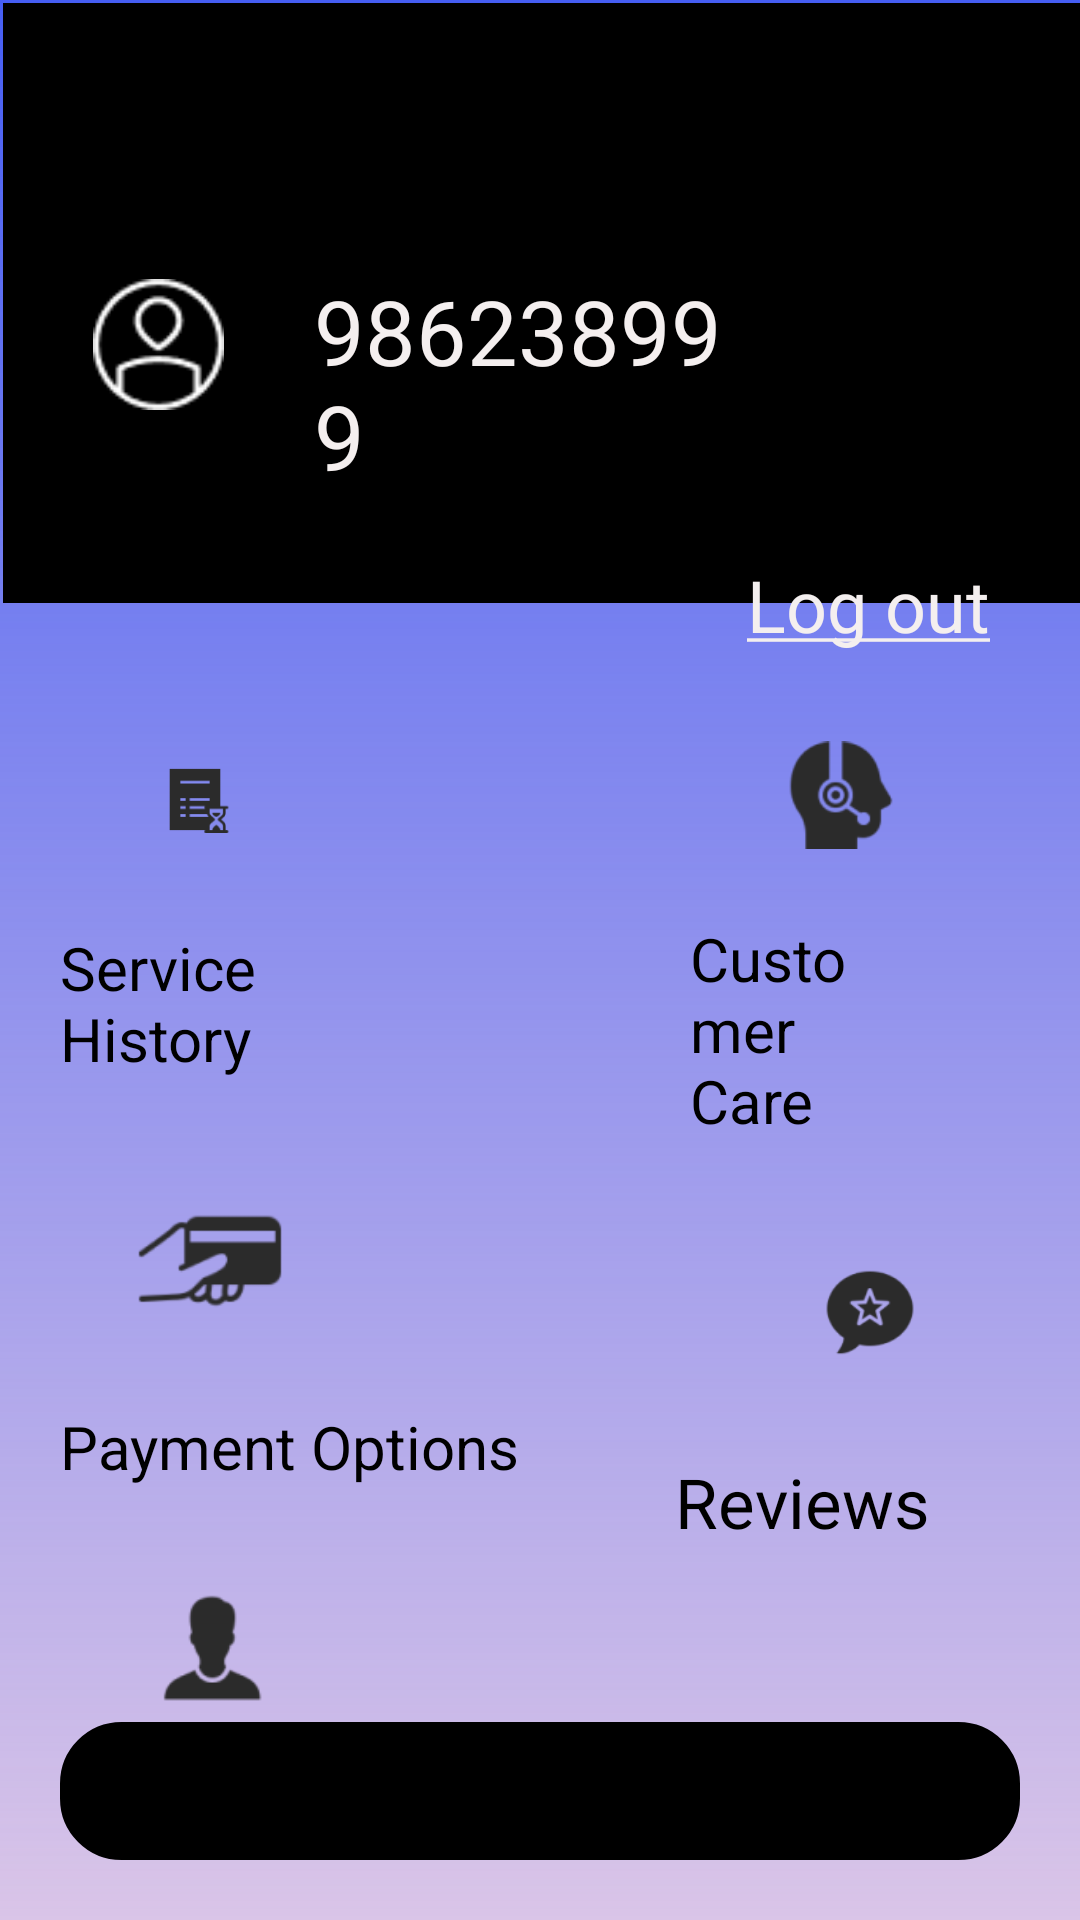

Where to tap for icons on this 1080 × 1920 app screen, as [x,y]:
card payment: [210,1260]
contacts: [213,1648]
customer support: [841,795]
order history: [199,801]
popular: [870,1312]
